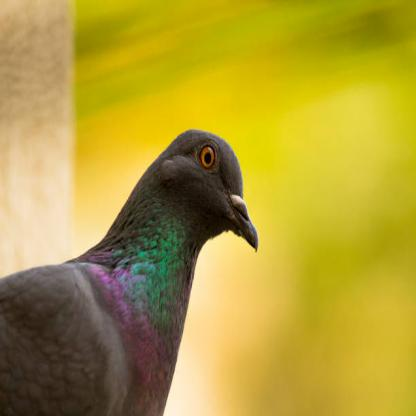Flying Rat: (1, 120, 267, 416)
